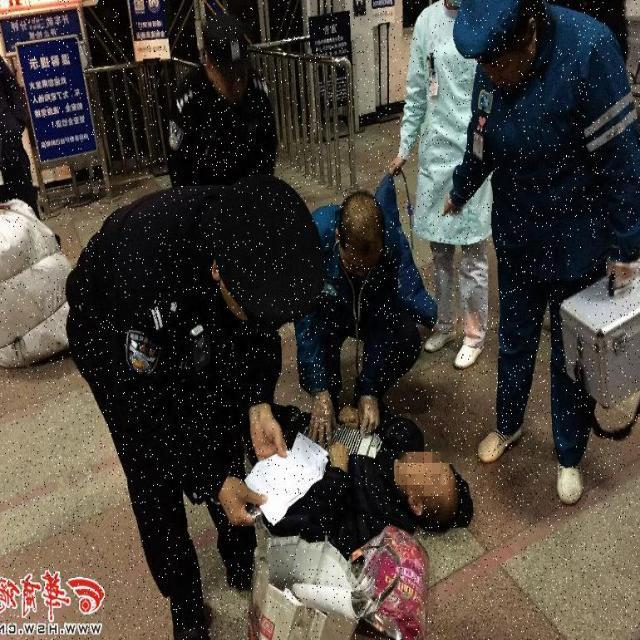fall: (286, 408, 449, 524)
